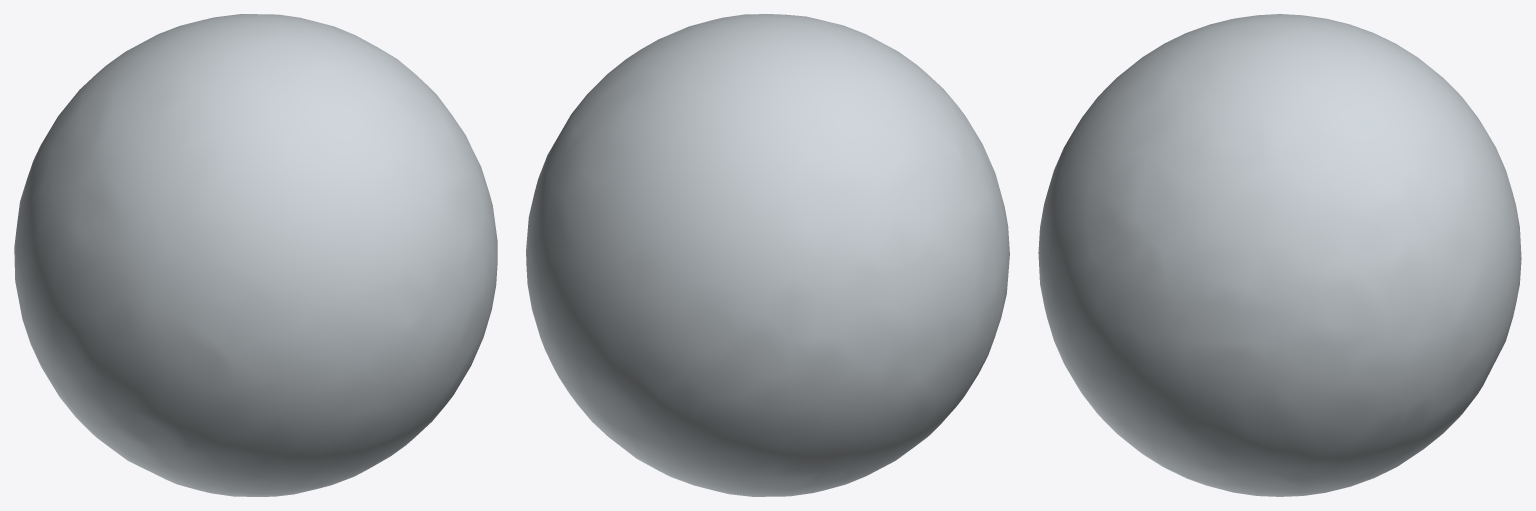
3 views of the same model, side by side, from view 1: azimuth 30°, elevation 25°; view 2: azimuth 150°, elevation 25°; view 3: azimuth 270°, elevation 25° (orthographic).
Visible parts, largest first — view 1: Simplygon_Proxy_4f9e583f-e223-4fc2-bfe9-3440be229717; view 2: Simplygon_Proxy_4f9e583f-e223-4fc2-bfe9-3440be229717; view 3: Simplygon_Proxy_4f9e583f-e223-4fc2-bfe9-3440be229717.
Boxes of the visible parts, x1,y1,x2,y2 form: Simplygon_Proxy_4f9e583f-e223-4fc2-bfe9-3440be229717: [14, 14, 497, 496]; Simplygon_Proxy_4f9e583f-e223-4fc2-bfe9-3440be229717: [526, 14, 1009, 496]; Simplygon_Proxy_4f9e583f-e223-4fc2-bfe9-3440be229717: [1038, 14, 1521, 496].
Size of the model in its own units: 0.0254 by 0.0253 by 0.0254.
Materials: 1 (1 with a texture image).
